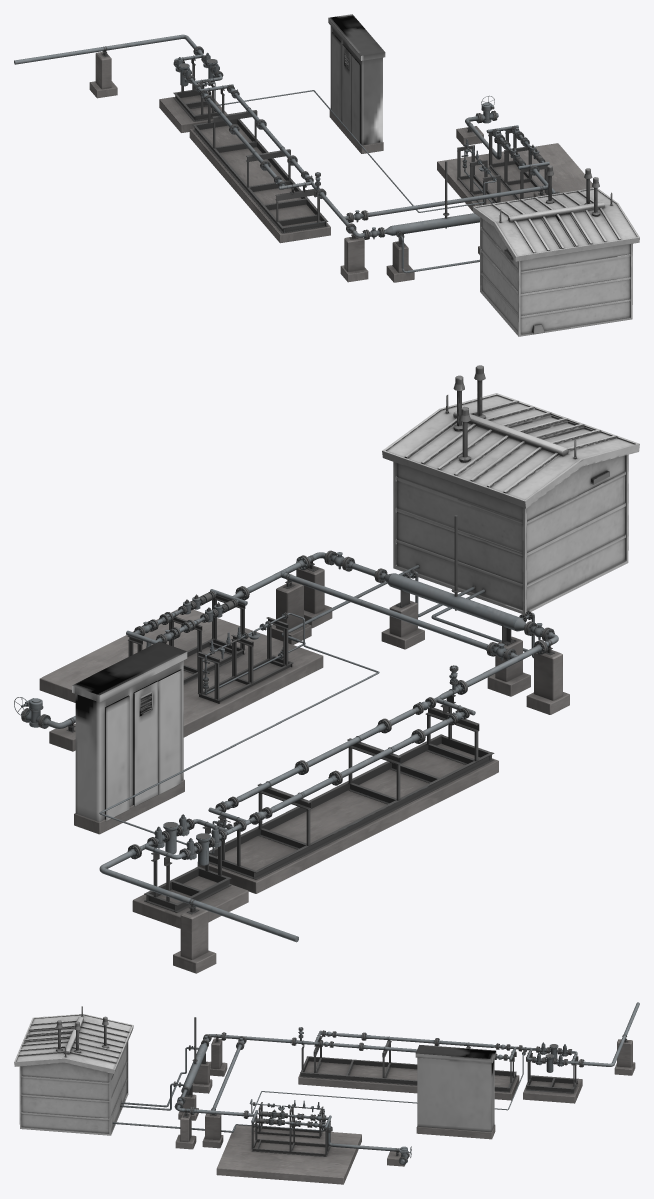
File: Hays-v1.glb
The picture shows the model from 3 angles, top to bottom: view 1: azimuth 30°, elevation 25°; view 2: azimuth 150°, elevation 25°; view 3: azimuth 270°, elevation 25°; orthographic projection. The views are drawn at different scales.
Parts seen in each view (by area): view 1: SM_Hays (×2); view 2: SM_Hays (×2); view 3: SM_Hays (×2).
Part boxes in pixels (x1,y1,x2,y2): SM_Hays (×2): (14,14,639,336); SM_Hays (×2): (14,365,639,973); SM_Hays (×2): (14,1002,639,1184).
Bounding box in the file's own units: 2.89 × 1.04 × 5.3.
2 materials, 2 textured.
